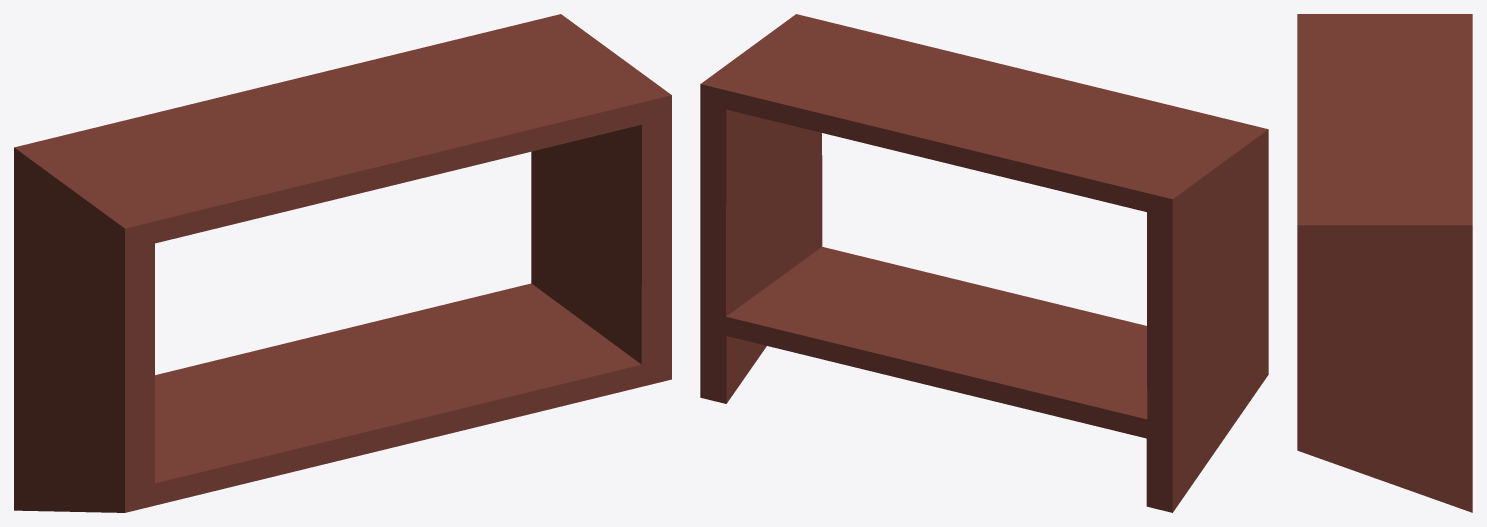
Rendered from Wall Bookshelf Small.fbx.
3 views of the same model, side by side, from view 1: azimuth 30°, elevation 25°; view 2: azimuth 150°, elevation 25°; view 3: azimuth 270°, elevation 25° (orthographic). The views are drawn at different scales.
Visible parts, largest first — view 1: Wall Bookshelf Small; view 2: Wall Bookshelf Small; view 3: Wall Bookshelf Small.
Part boxes in pixels (bbox=[...]): Wall Bookshelf Small: bbox=[14, 14, 671, 512]; Wall Bookshelf Small: bbox=[700, 14, 1268, 512]; Wall Bookshelf Small: bbox=[1297, 14, 1472, 512].
Bounding box in the file's own units: 0.6611 × 0.4195 × 0.2322.
